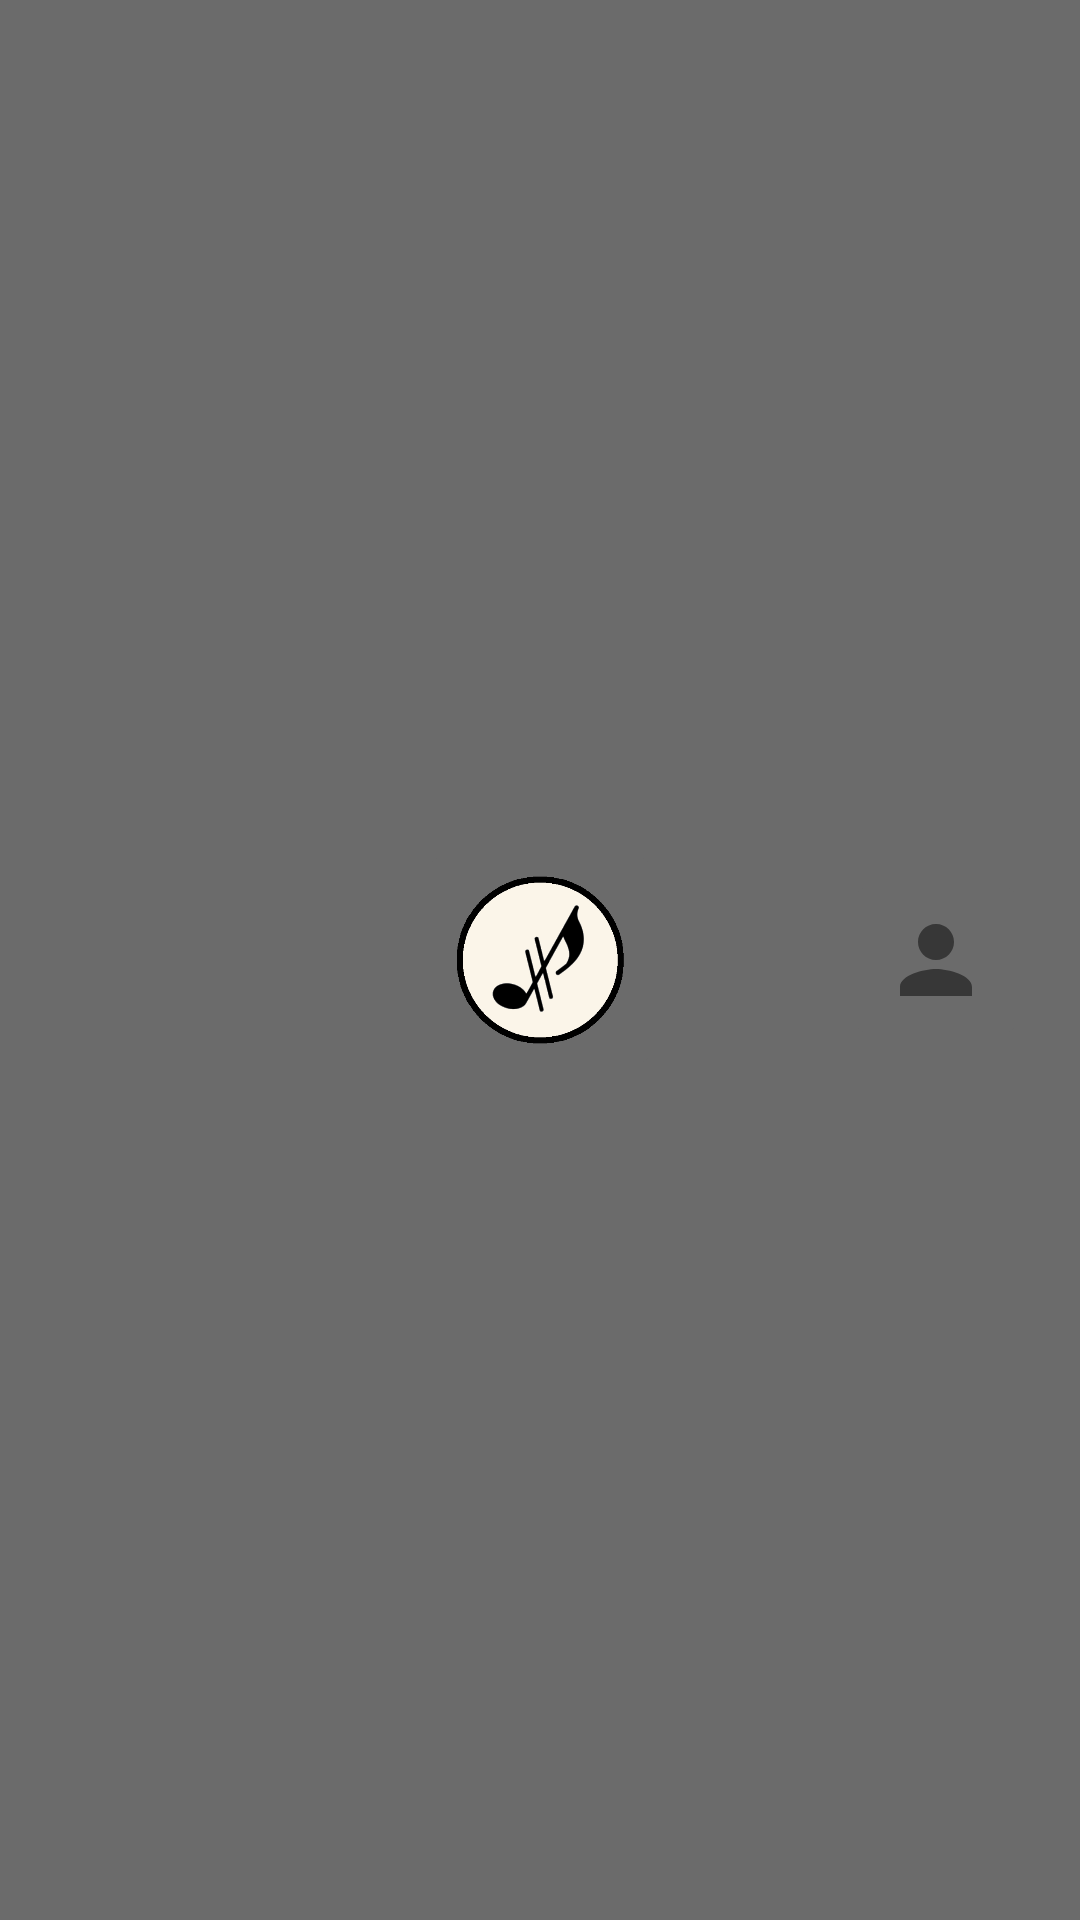

Screen size 1080*1920. Icon name, then its center in pixels as point (x, y):
Area personale: point (936, 960)
